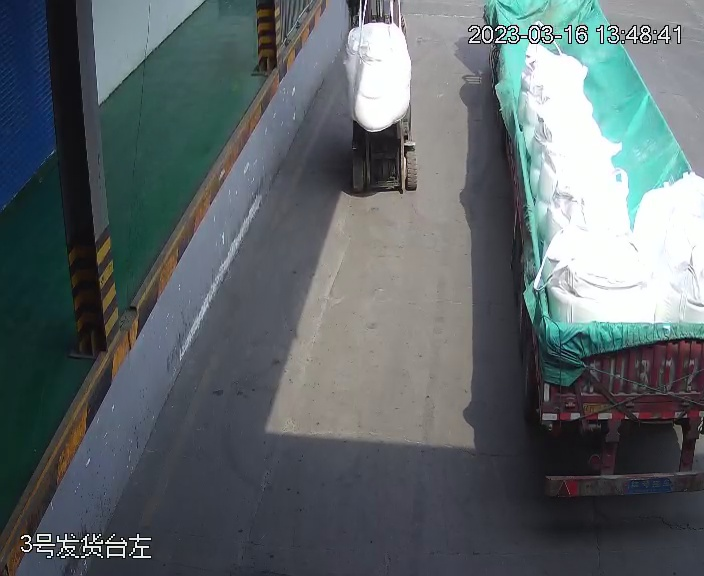truck: (481, 1, 704, 499)
